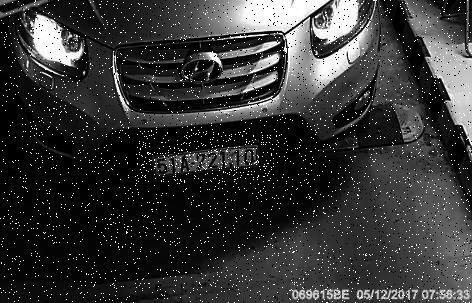License-plate: (137, 132, 274, 185)
